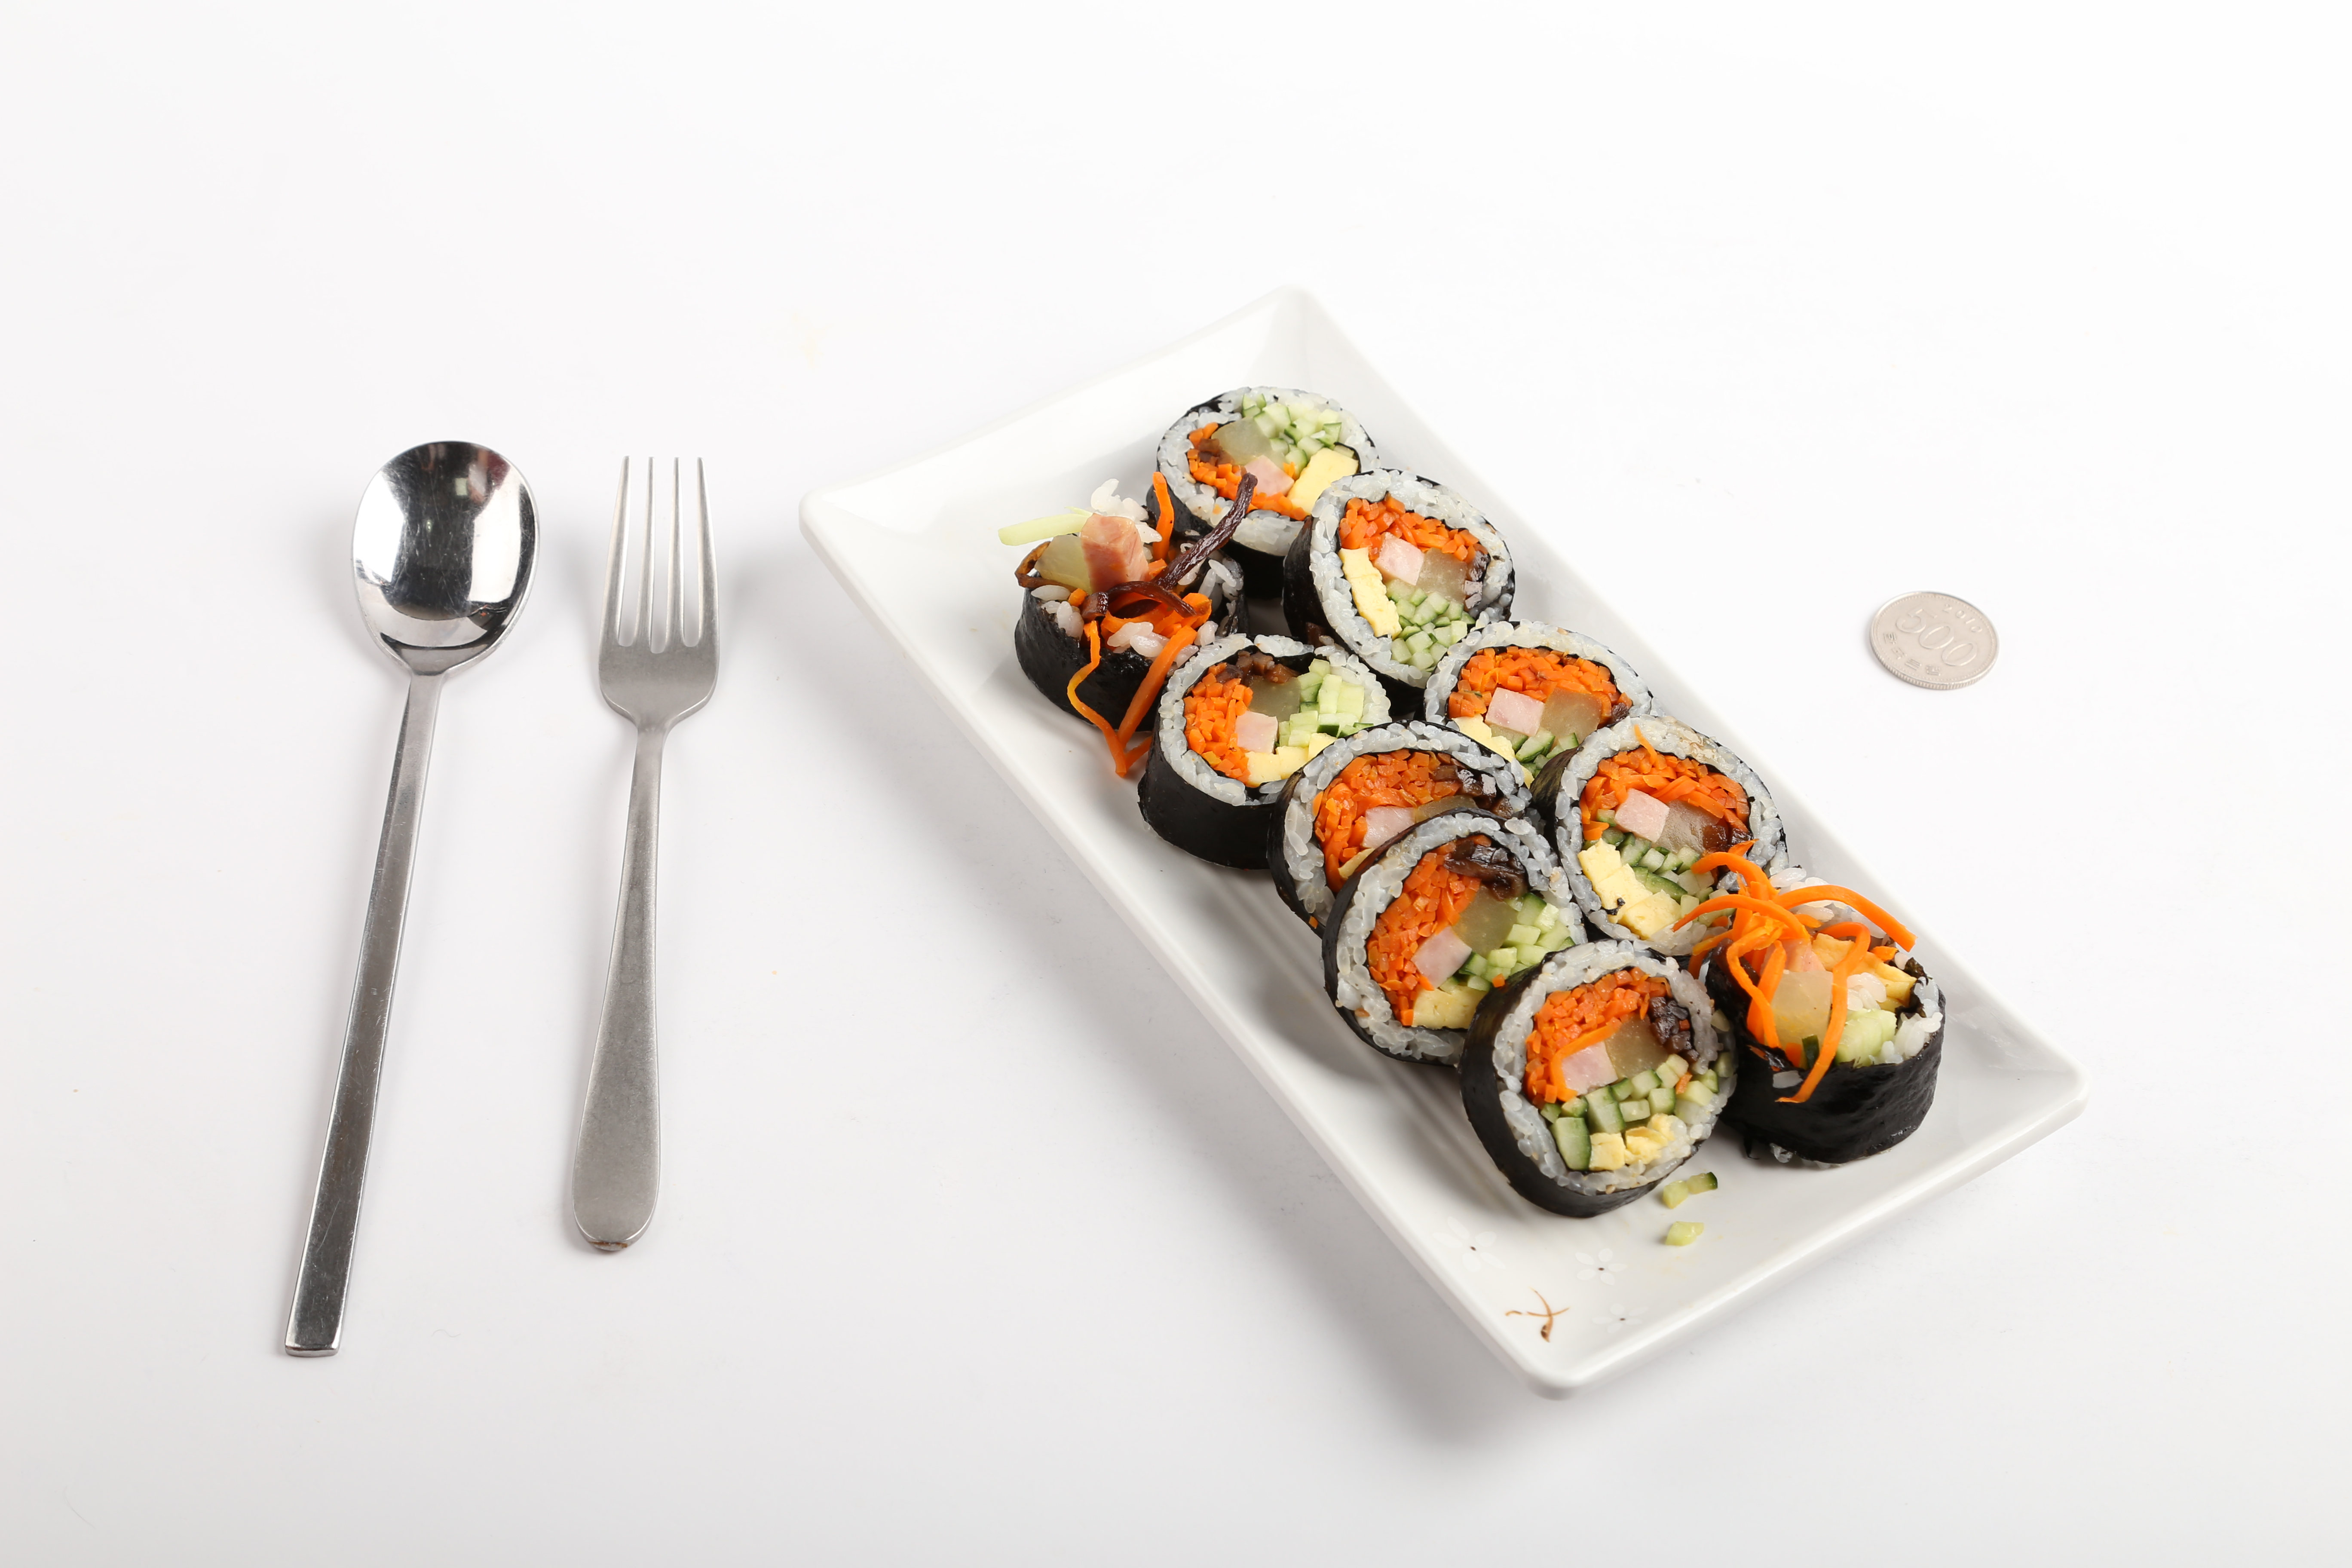dish: (803, 282, 2100, 1409)
ref_coin: (1855, 591, 2009, 691)
ref_fork: (591, 446, 724, 761)
ref_spoon: (346, 432, 542, 716)
김밥: (1015, 383, 1946, 1221)
